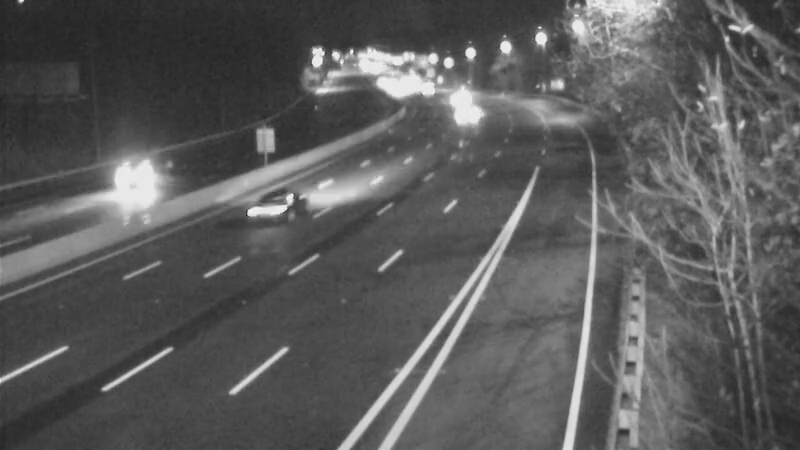vehicle: (232, 175, 312, 255), (100, 137, 180, 217), (406, 62, 456, 112), (431, 73, 481, 123), (432, 92, 482, 142)
